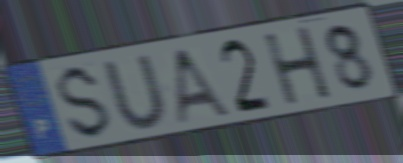2: (218, 36, 274, 117)
8: (324, 21, 378, 94)
A: (173, 45, 235, 127)
H: (260, 23, 336, 109)
S: (56, 62, 115, 143)
U: (99, 51, 173, 132)
